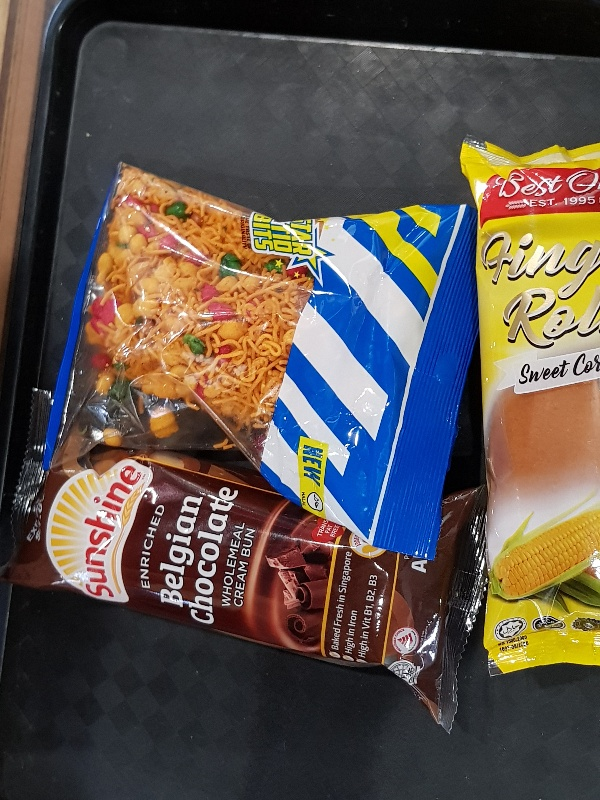Star Tidbits Mixer: (45, 159, 475, 561)
Sunshine Belgium Chocolate Wholemeal Cream Bun: (7, 384, 487, 736)
Tinges Roll Sweet Corn: (456, 132, 600, 680)
